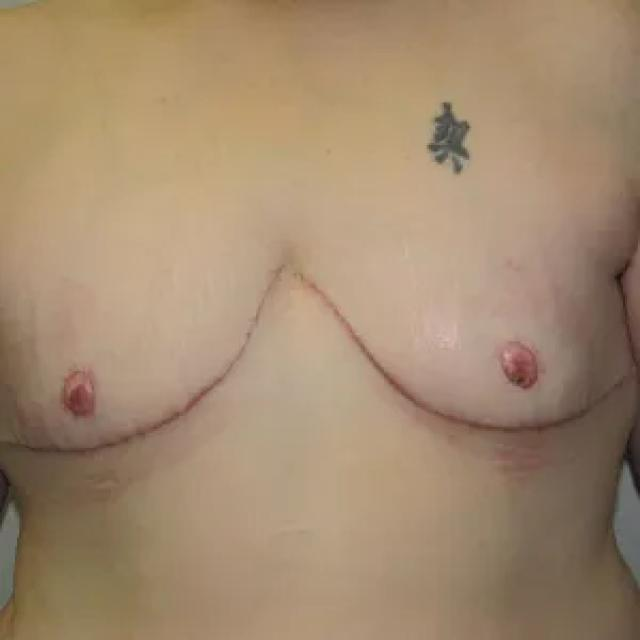Seno herido: (290, 217, 640, 465), (0, 217, 288, 485)
